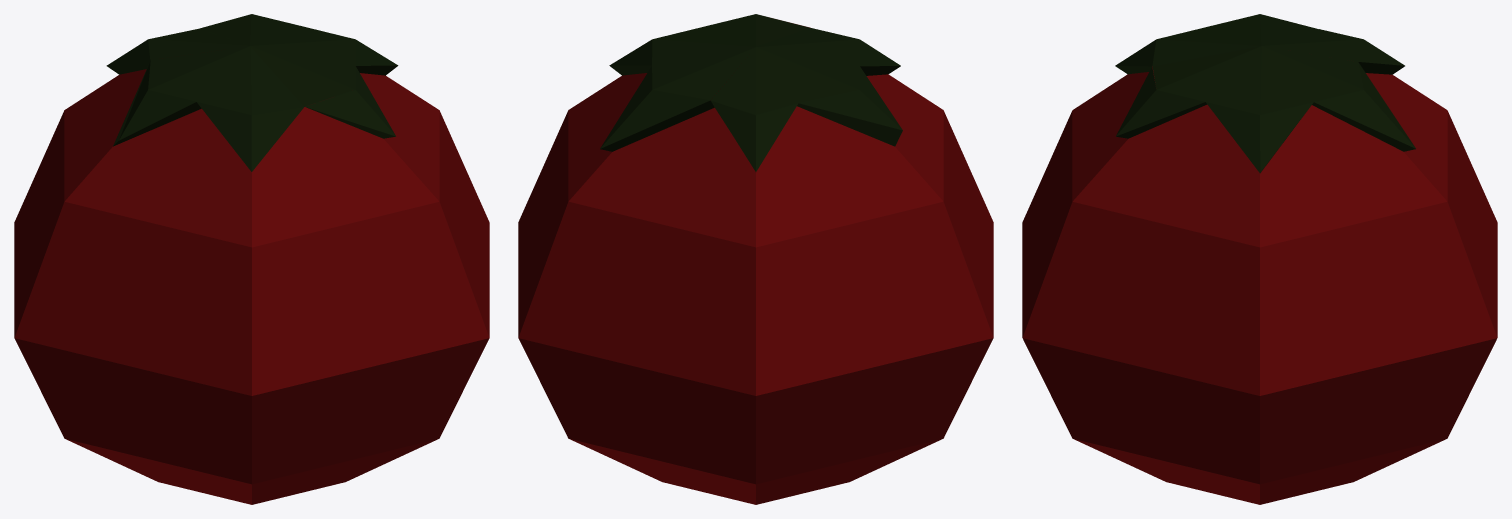
File: Tomato.fbx
3 renders of one model, left to right at view 1: azimuth 30°, elevation 25°; view 2: azimuth 150°, elevation 25°; view 3: azimuth 270°, elevation 25°, orthographic.
Visible parts, largest first — view 1: Cylinder004; view 2: Cylinder004; view 3: Cylinder004.
Boxes of the visible parts, x1,y1,x2,y2 form: Cylinder004: (14,14,489,504); Cylinder004: (518,14,993,504); Cylinder004: (1022,14,1497,504).
Size of the model in its own units: 10.33 by 9.1 by 8.95.
